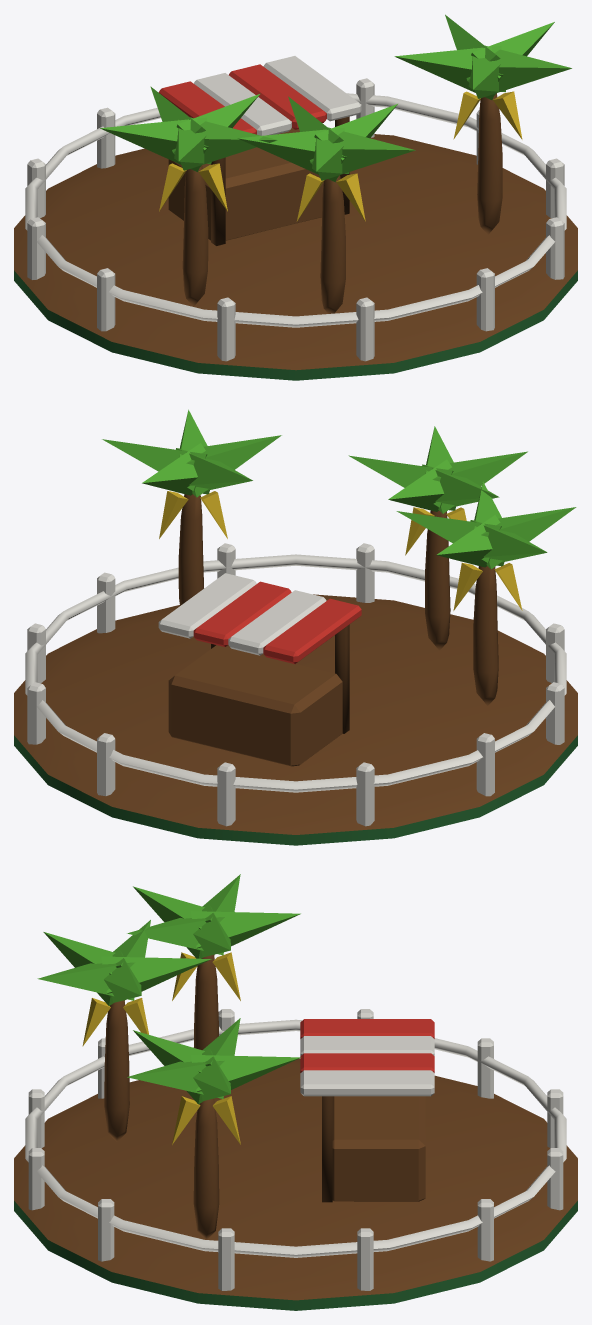
The picture shows the model from 3 angles, top to bottom: view 1: azimuth 30°, elevation 25°; view 2: azimuth 150°, elevation 25°; view 3: azimuth 270°, elevation 25°; orthographic projection.
Parts seen in each view (by area): view 1: fazenda_0_base, fazenda_1_torreta; view 2: fazenda_0_base, fazenda_1_torreta; view 3: fazenda_0_base, fazenda_1_torreta.
Part boxes in pixels (bbox=[...]): fazenda_0_base: bbox=[14, 56, 577, 380]; fazenda_1_torreta: bbox=[100, 14, 571, 313]; fazenda_0_base: bbox=[14, 543, 577, 845]; fazenda_1_torreta: bbox=[102, 409, 576, 705]; fazenda_0_base: bbox=[14, 1009, 577, 1310]; fazenda_1_torreta: bbox=[37, 874, 300, 1239].
Bounding box in the file's own units: 1.28 × 0.5151 × 1.26.
